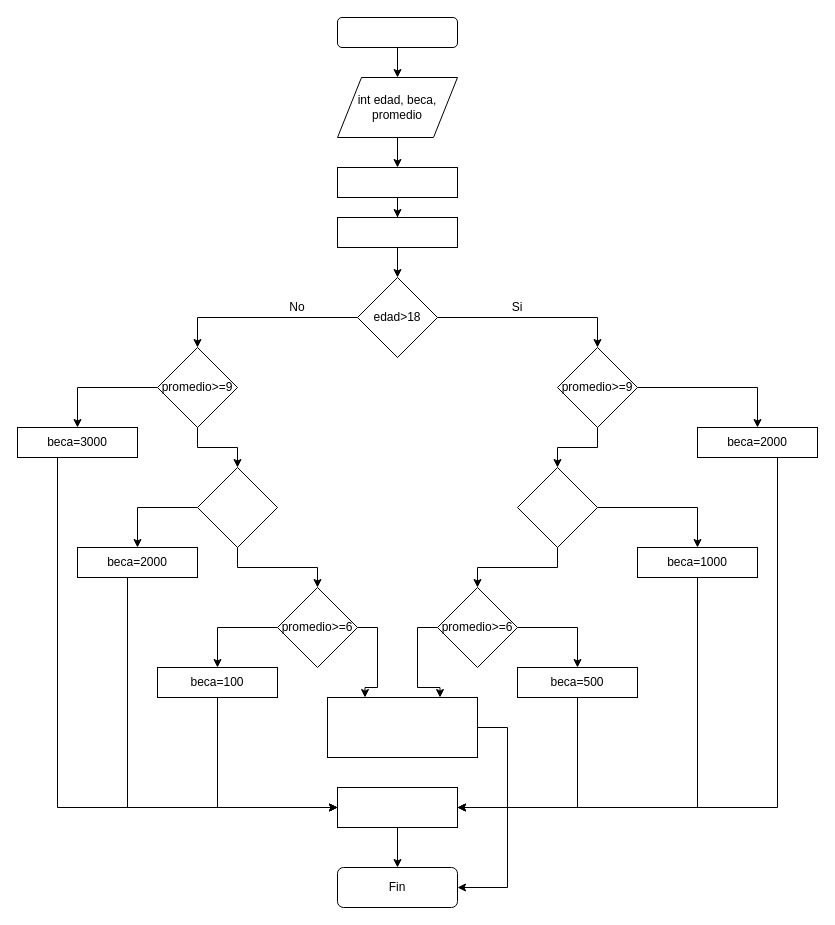
Some shapes in this 835 by 925 pixel diagram are drawn without their labels. Each missing label, with the centre of its shape:
ingresa edad<- edad: the point at 397,182
ingresa promedio<- promedio: the point at 397,232
inicio: the point at 397,32
Mostrar beca: the point at 397,807
Mostrar: "Mejora tu calificacion": the point at 402,727
promedio>=7.5: the point at 557,507
promedio>=8: the point at 237,507
